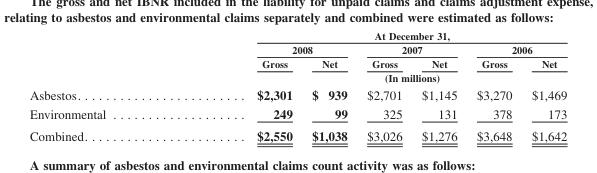table: (28, 29, 566, 142)
table column: (28, 29, 180, 142), (180, 29, 301, 142), (301, 29, 356, 142), (356, 29, 411, 142), (411, 29, 466, 142), (466, 29, 521, 142), (521, 29, 566, 142)
table column header: (28, 29, 566, 85)
table row: (28, 103, 566, 123), (28, 123, 566, 142), (28, 85, 566, 103), (28, 70, 566, 85), (28, 42, 566, 56), (28, 56, 566, 70), (28, 29, 566, 42)
table spanning cell: (180, 70, 566, 85), (180, 29, 566, 42), (180, 42, 356, 56), (356, 42, 466, 56), (466, 42, 566, 56)
